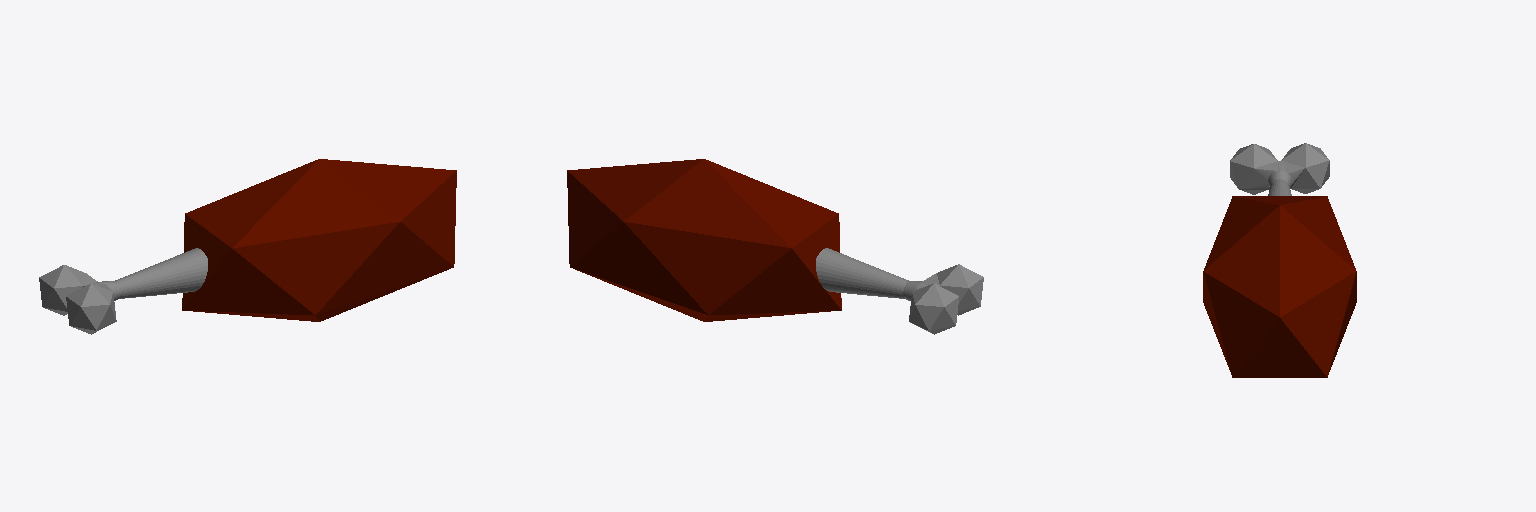
Rendered from meat.obj.
3 views of the same model, side by side, from view 1: azimuth 30°, elevation 25°; view 2: azimuth 150°, elevation 25°; view 3: azimuth 270°, elevation 25° (orthographic).
Parts seen in each view (by area): view 1: Cylinder.001_Cylinder.002; view 2: Cylinder.001_Cylinder.002; view 3: Cylinder.001_Cylinder.002.
Boxes of the visible parts, x1,y1,x2,y2 form: Cylinder.001_Cylinder.002: [39, 159, 456, 334]; Cylinder.001_Cylinder.002: [567, 159, 983, 334]; Cylinder.001_Cylinder.002: [1203, 143, 1356, 377].
Bounding box in the file's own units: 5.15 × 2 × 1.7.